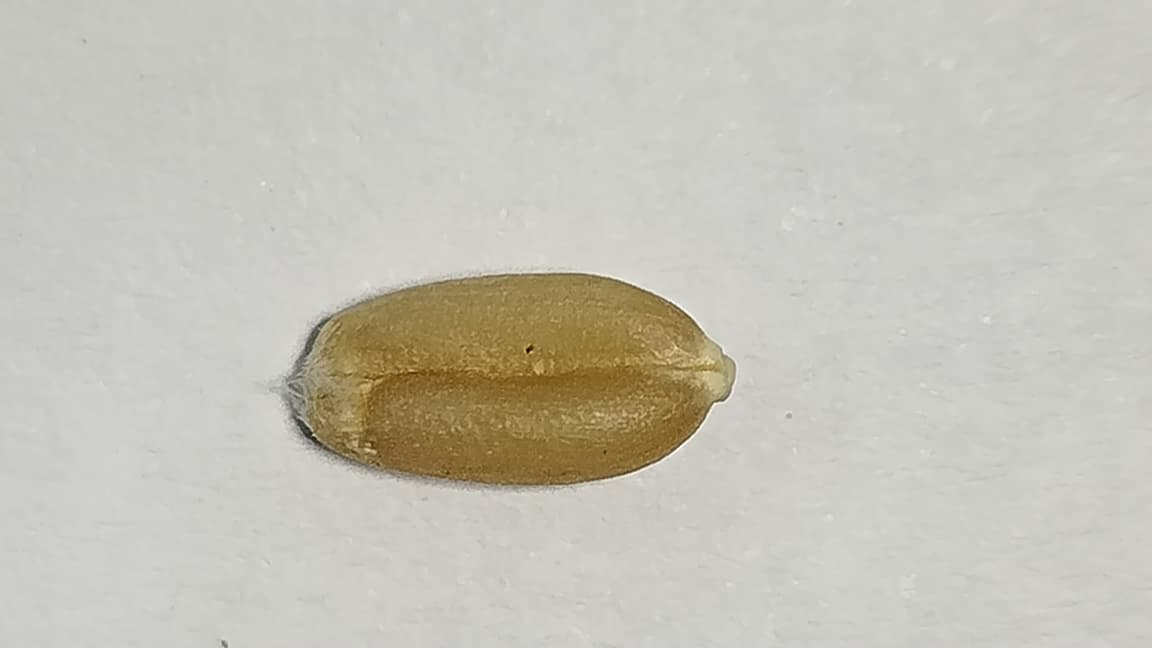healthy: (293, 274, 734, 485)
